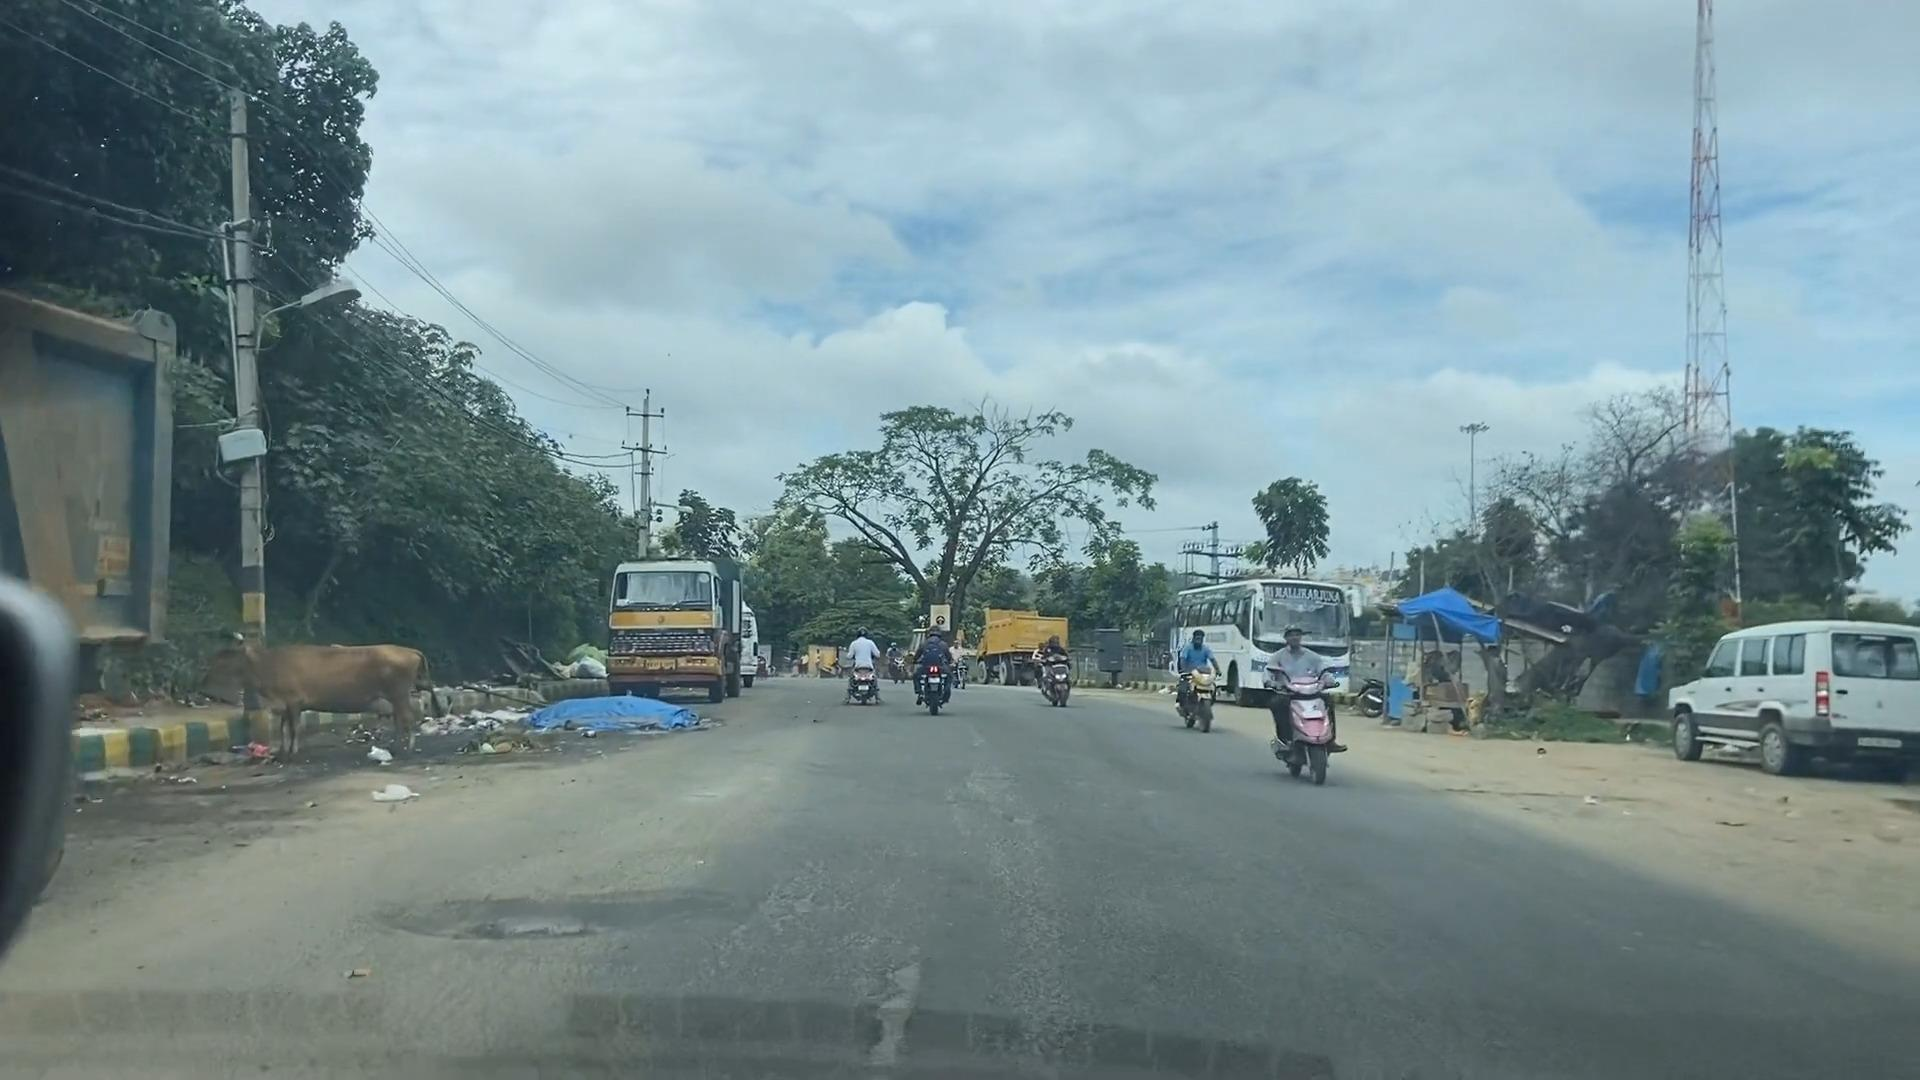HMV: (0, 263, 228, 1020), (1162, 545, 1366, 718), (596, 518, 751, 723), (940, 590, 1081, 707)
LMV: (1618, 615, 1920, 811), (883, 549, 980, 772), (1257, 622, 1338, 777), (812, 601, 884, 735), (1148, 619, 1224, 733), (1030, 634, 1073, 713)
RoadDamages: (386, 854, 638, 984), (851, 844, 958, 1080)
